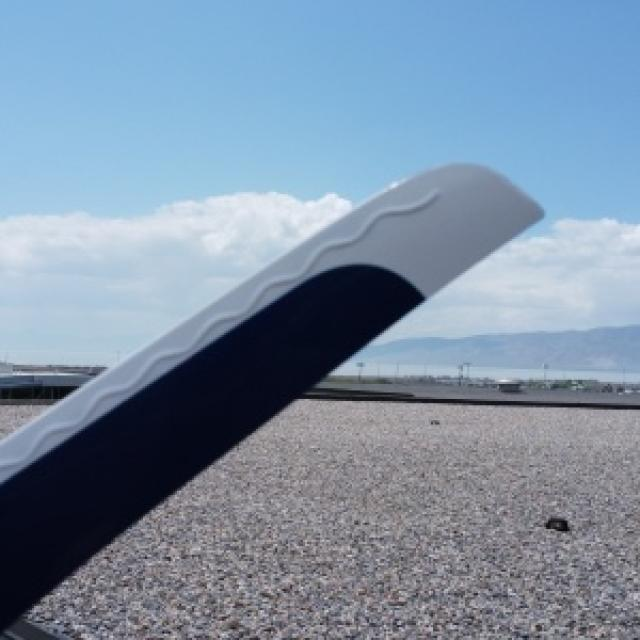healthy: (0, 164, 542, 638)
